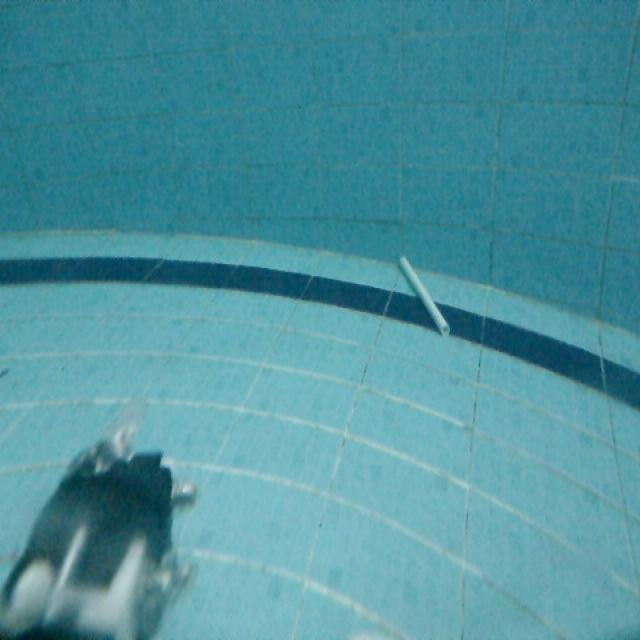Cube: (394, 254, 454, 344)
